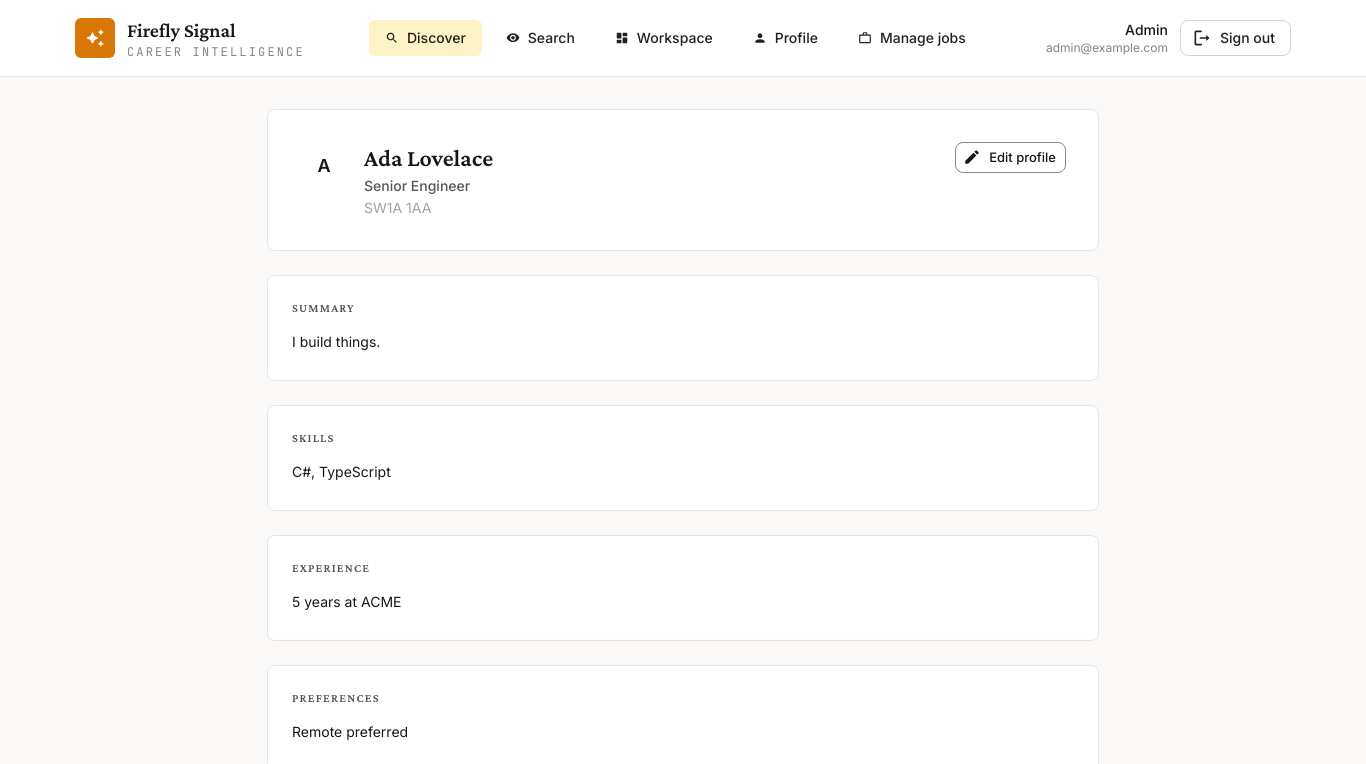
Test case: ProfileView › saves changes and returns to view mode
Expected: the heading "Ada Lovelace" is shown, [364,142,493,174]
Click the button "Edit profile" at (1011, 157), box [955,142,1066,173]
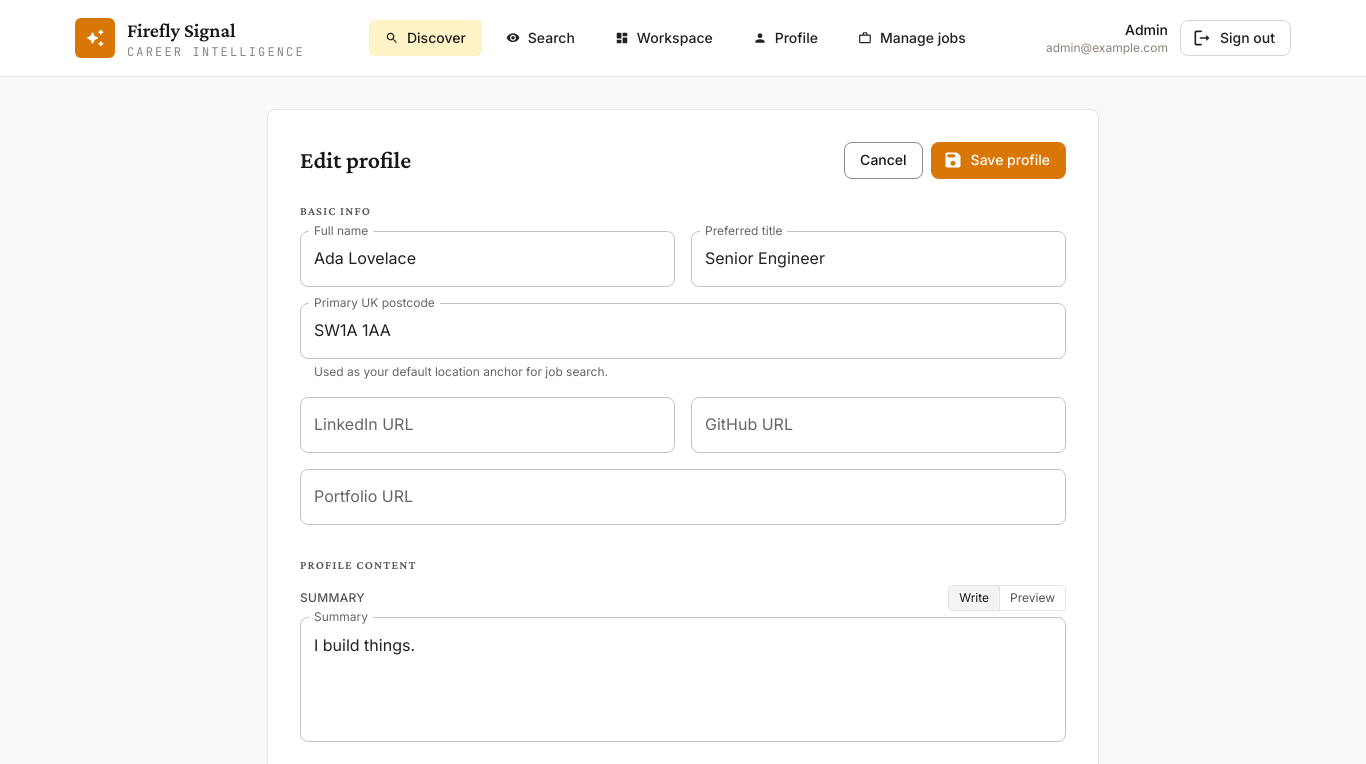
Click the button "Save profile" at (998, 160), box [931,142,1066,178]
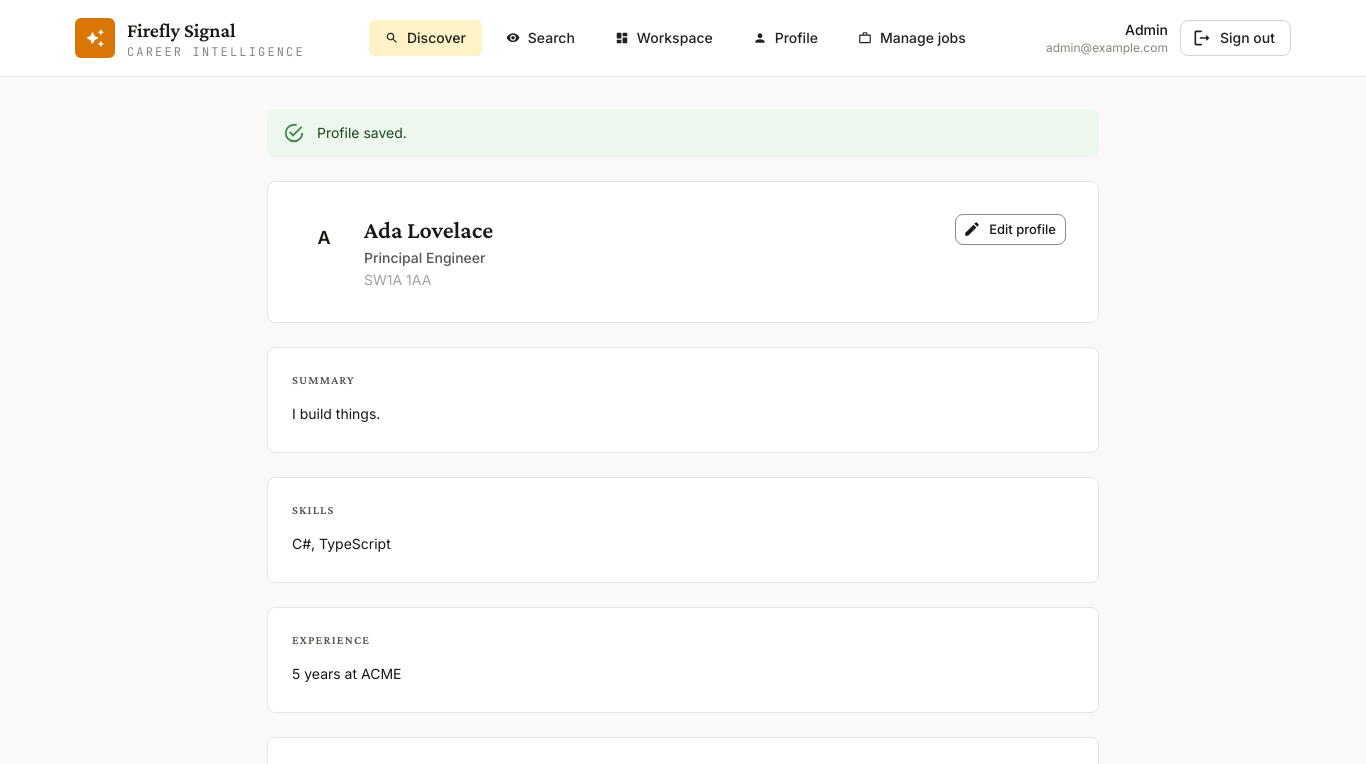
Result: the text "Profile saved." is shown at [317,124,407,141]
